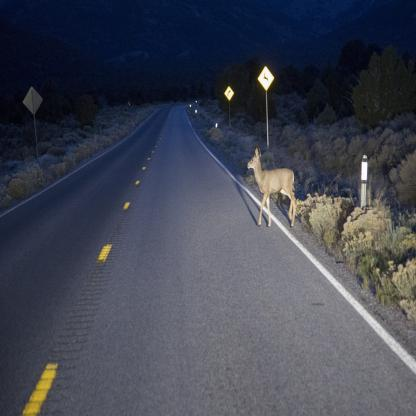Deer: (246, 144, 297, 229)
